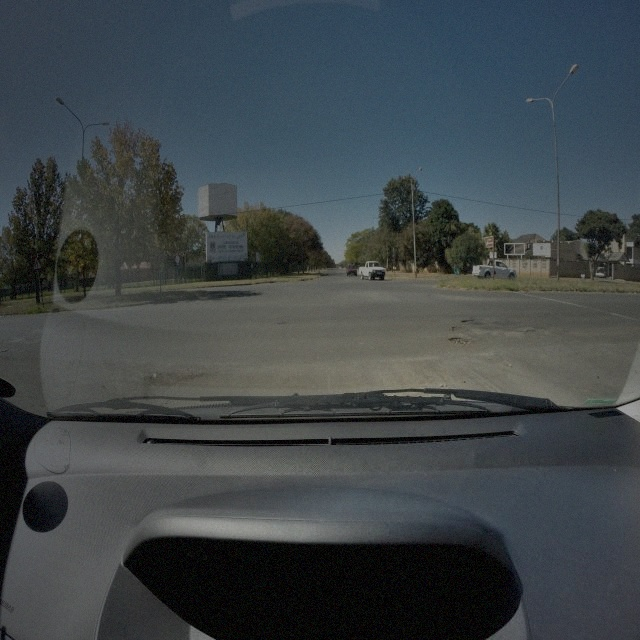pothole: (448, 337, 471, 347), (461, 317, 475, 325), (450, 324, 465, 331), (278, 320, 288, 326)
